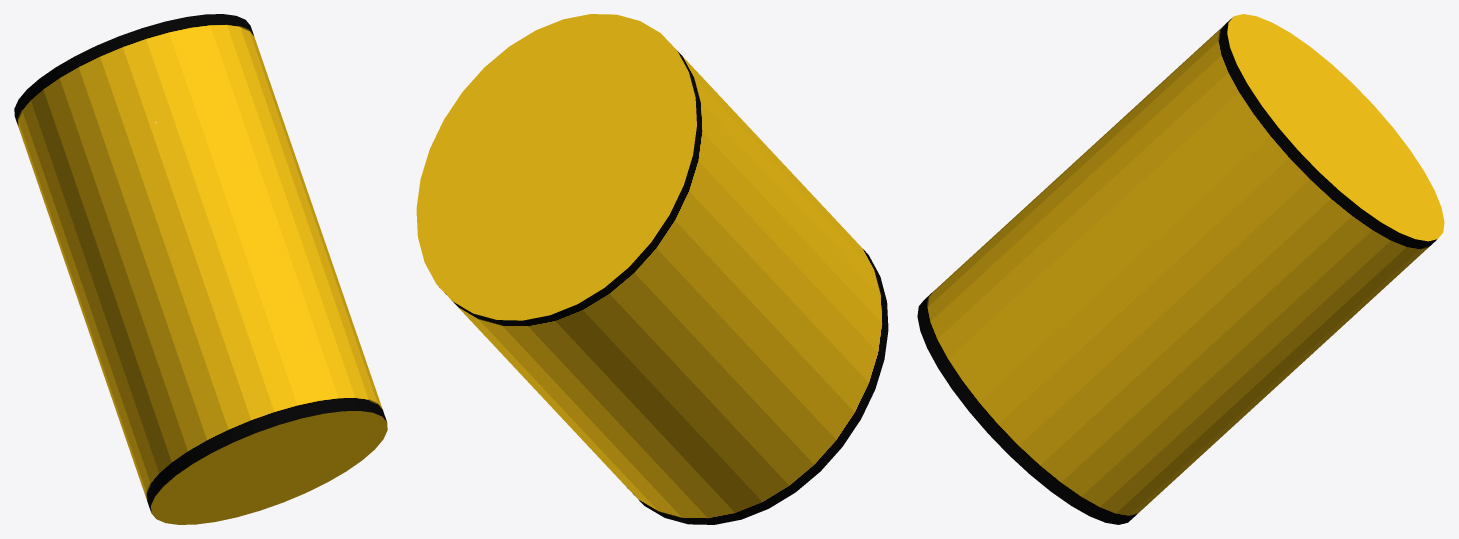
File: LightA.fbx
The picture shows the model from 3 angles, left to right: view 1: azimuth 30°, elevation 25°; view 2: azimuth 150°, elevation 25°; view 3: azimuth 270°, elevation 25°; orthographic projection. The views are drawn at different scales.
Parts seen in each view (by area): view 1: LightSource; view 2: LightSource; view 3: LightSource.
Boxes of the visible parts, left/top/right/bottom form: LightSource: left=14, top=14, right=387, bottom=524; LightSource: left=416, top=14, right=888, bottom=524; LightSource: left=917, top=14, right=1444, bottom=524.
Bounding box in the file's own units: 33.14 × 64.67 × 64.25.
1 material, 1 textured.
